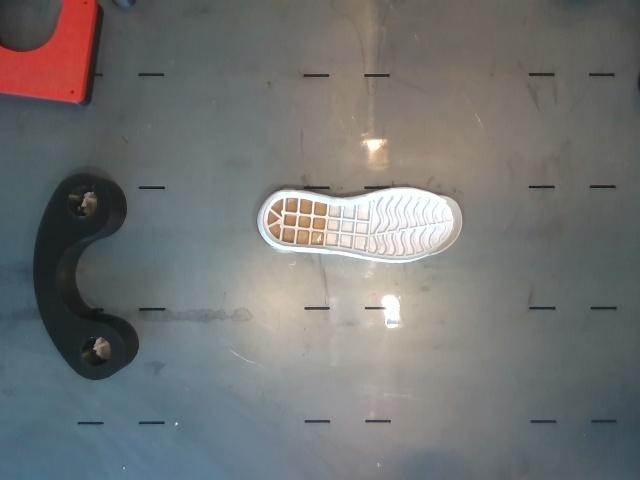shoes: (261, 190, 461, 262)
